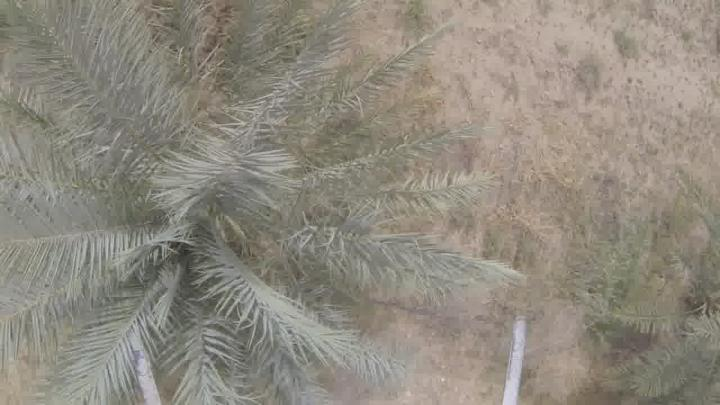Date-Palm-Crown: (34, 65, 352, 374)
